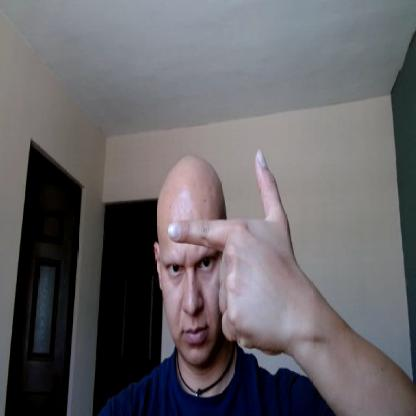G: (167, 147, 294, 353)
